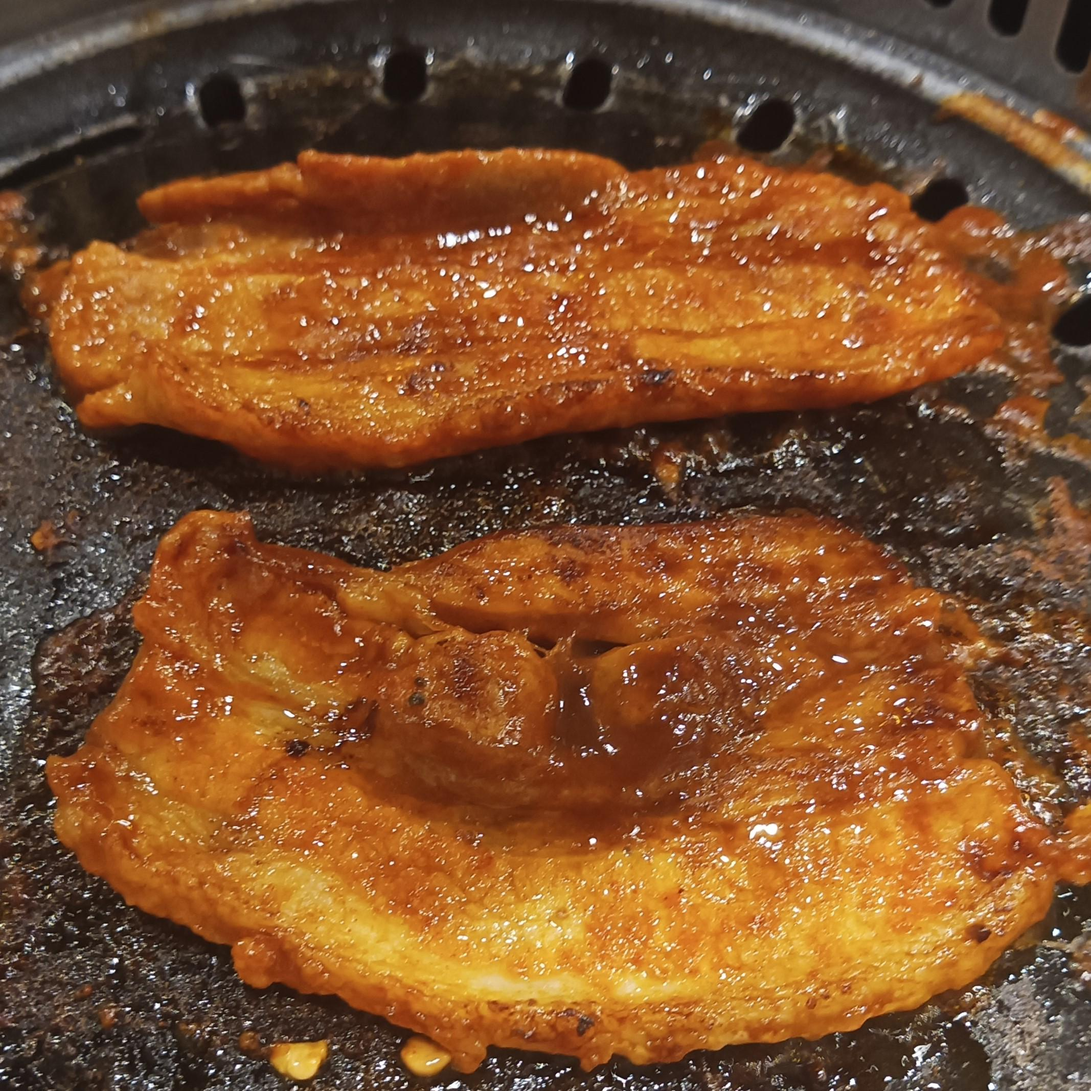Well-Cooked: (41, 509, 1068, 1075), (37, 150, 1017, 474)
